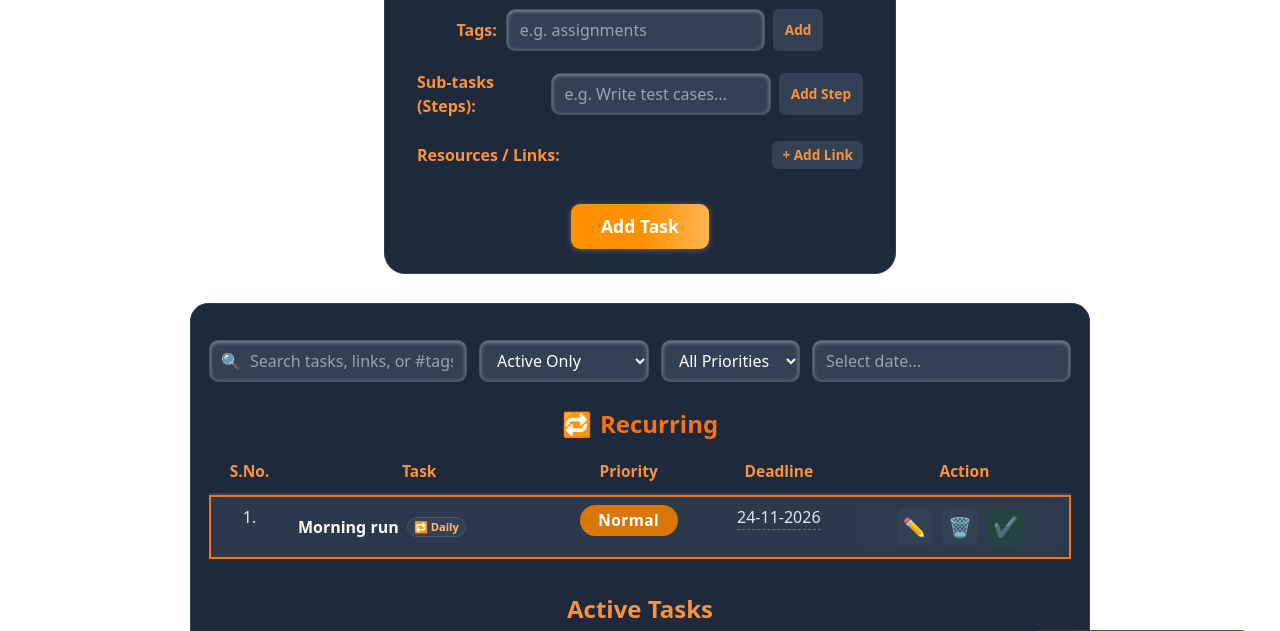
Test: Dashboard › filters by search text
(page scrolled)
Type "report" into the field with placeholder "Search tasks, links, or #tags..." at x=338, y=361, box top-left (209, 340), bottom-right (467, 382)
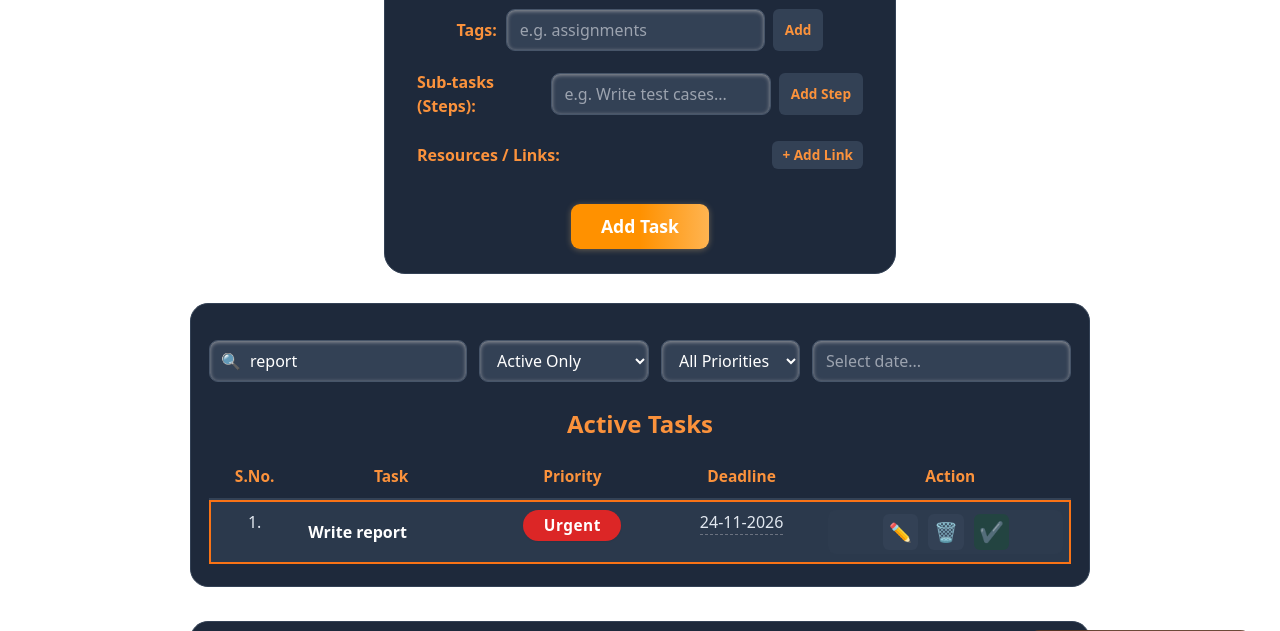
Check: the text "Write report" is shown, box top-left (308, 520), bottom-right (407, 544)
Check: the text "Morning run" is gone
